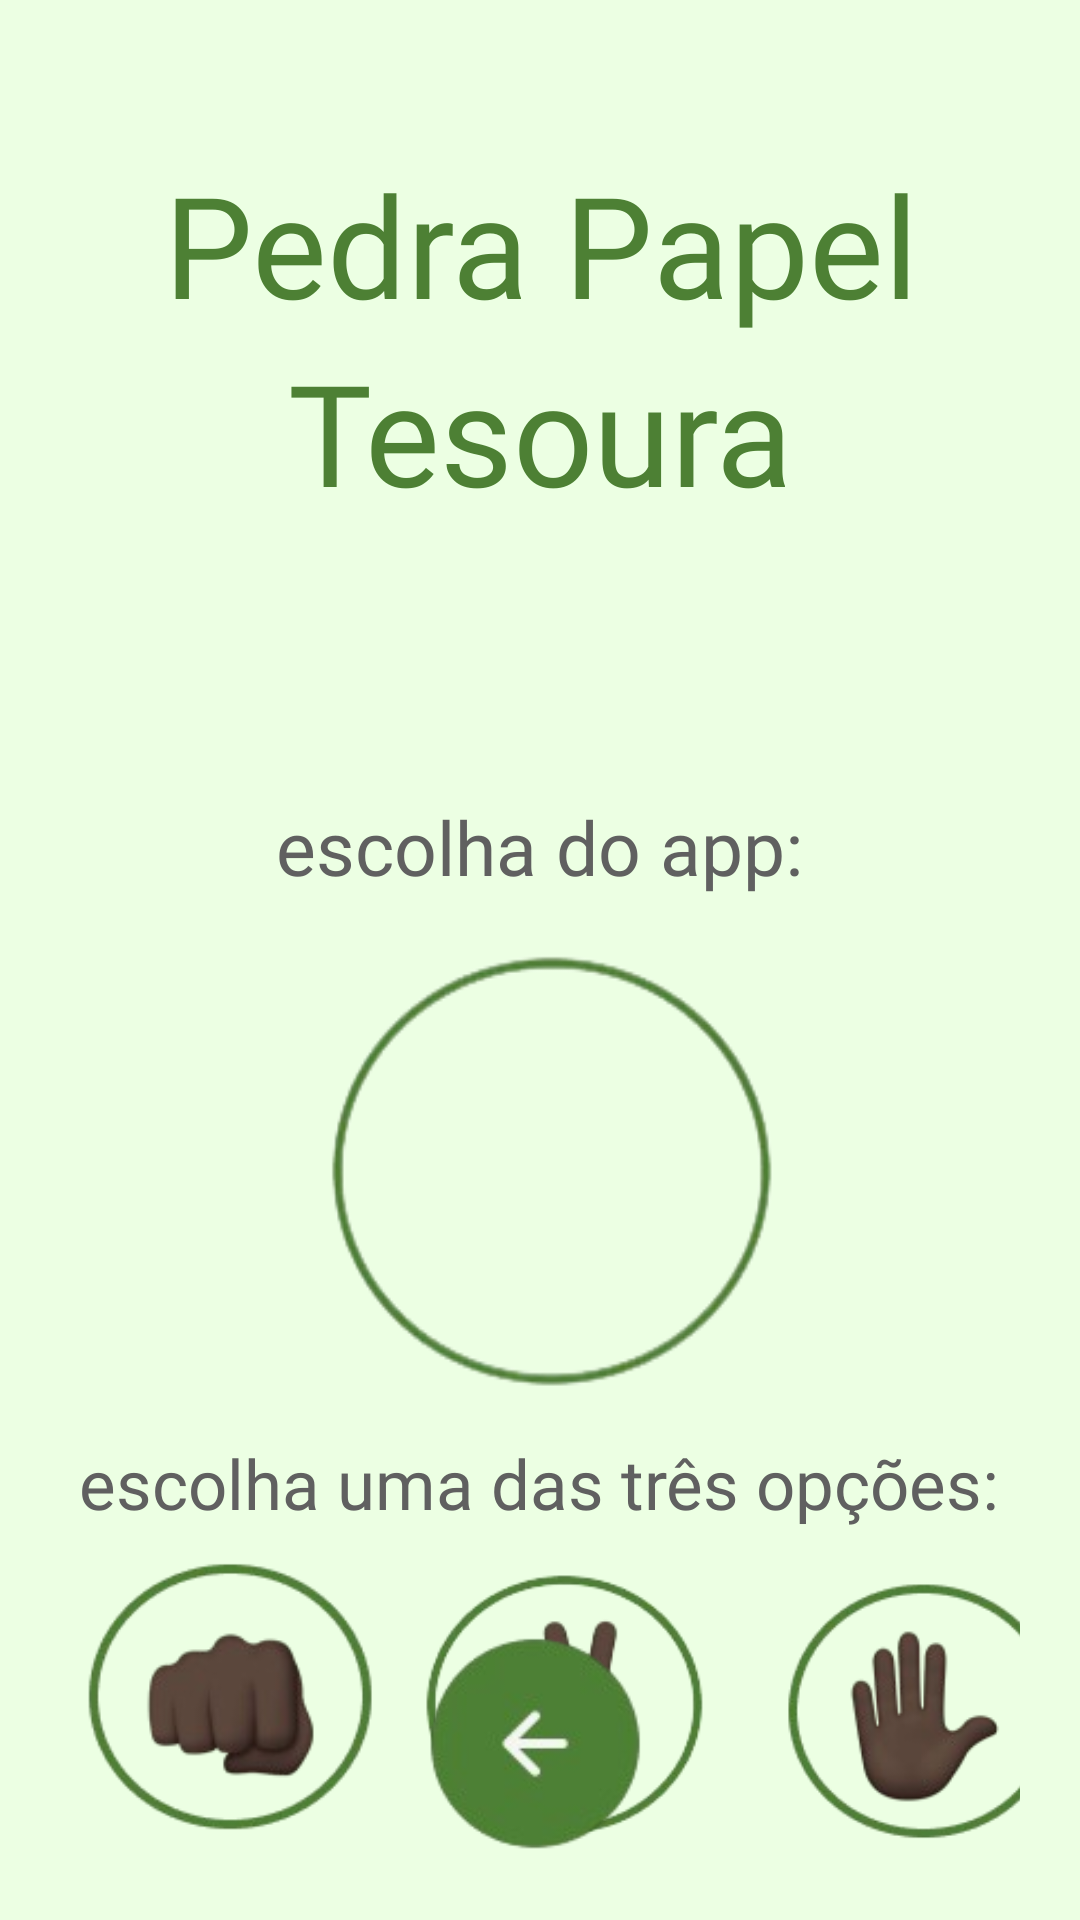

Point at icon controls on the screen. Image size 1080 × 1920, points as point (x, y).
pedra: point (230, 1697)
